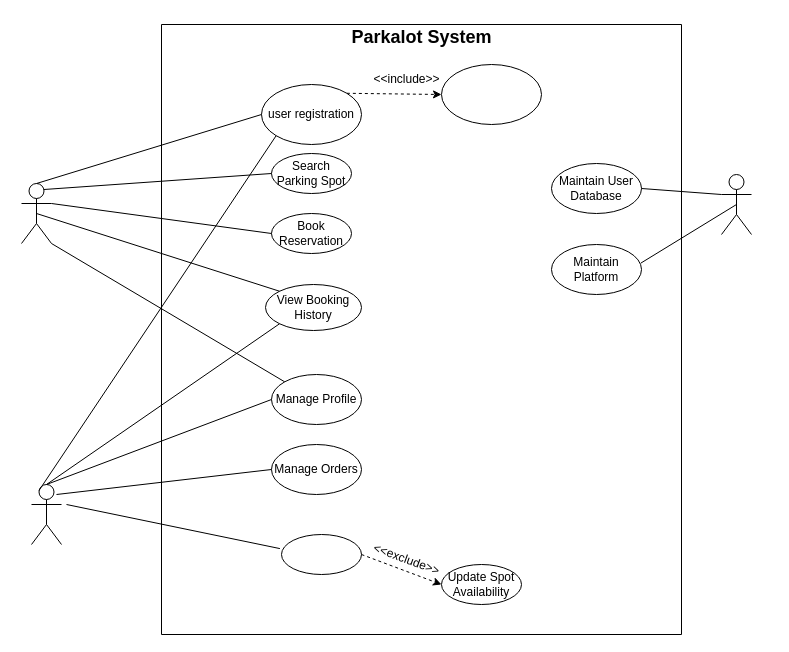
This 789x652 diagram has some shape labels left out. The centre of each missing label's shape, as x and y in pixels:
Administrator: (736,204)
create an account: (491,94)
Listing Parking Spot: (321,554)
Owner: (46,514)
Seeker: (36,213)
